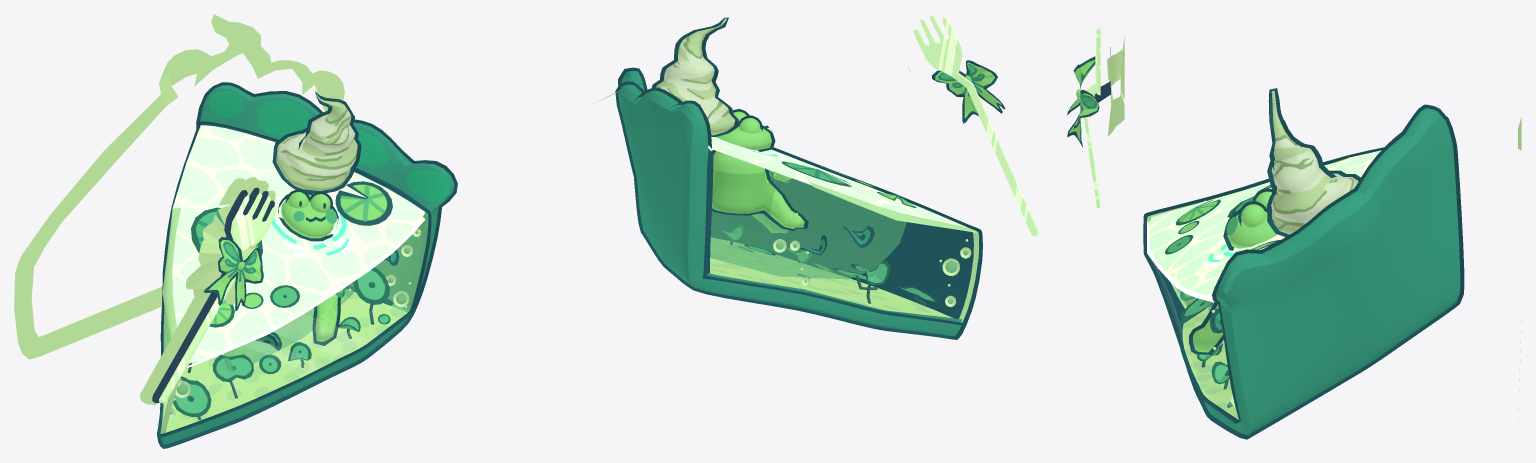
3 renders of one model, left to right at view 1: azimuth 30°, elevation 25°; view 2: azimuth 150°, elevation 25°; view 3: azimuth 270°, elevation 25°, orthographic. The views are drawn at different scales.
Visible parts, largest first — view 1: Pie_18, Plane.001_23, Lilypads_17, Cream_10, Fork Shadow 2_16, Body_3, Fork_14, Circle.003_7, Ribbon 2_20, Fork Shadow 1_15, Cube.003_11, Big Bubbles_2; view 2: Pie_18, Cube.003_11, Body_3, Cream_10, Fork_14, Lilypads_17, Ribbon 2_20, Big Bubbles_2, Circle.003_7; view 3: Pie_18, Cream_10, Body_3, Lilypads_17, Fork Shadow 2_16, Ribbon 2_20, Fork_14, Eye 2_13.
Part boxes in pixels (x1,y1,x2,y2): Pie_18: (157, 82, 457, 448); Plane.001_23: (14, 14, 344, 359); Lilypads_17: (173, 207, 390, 417); Cream_10: (272, 91, 361, 193); Fork Shadow 2_16: (139, 177, 275, 405); Body_3: (278, 192, 340, 345); Fork_14: (159, 193, 276, 403); Circle.003_7: (255, 181, 399, 350); Ribbon 2_20: (203, 237, 263, 311); Fork Shadow 1_15: (152, 187, 274, 402); Cube.003_11: (224, 282, 354, 371); Big Bubbles_2: (164, 228, 421, 417); Pie_18: (615, 67, 982, 339); Cube.003_11: (710, 174, 906, 279); Body_3: (712, 126, 808, 235); Cream_10: (651, 17, 738, 136); Fork_14: (913, 15, 1038, 236); Lilypads_17: (719, 161, 937, 302); Ribbon 2_20: (931, 60, 1005, 123); Big Bubbles_2: (773, 239, 971, 306); Circle.003_7: (799, 226, 874, 255); Pie_18: (1143, 104, 1464, 439); Cream_10: (1266, 88, 1360, 236); Body_3: (1189, 209, 1277, 354); Lilypads_17: (1165, 185, 1272, 407); Fork Shadow 2_16: (1107, 36, 1124, 136); Ribbon 2_20: (1067, 56, 1099, 147); Fork_14: (1084, 27, 1100, 208); Eye 2_13: (1238, 201, 1267, 227).
Size of what is drawn, in the model's own units: 4.55 by 3.56 by 3.95.
Materials: 26 (7 with a texture image).
